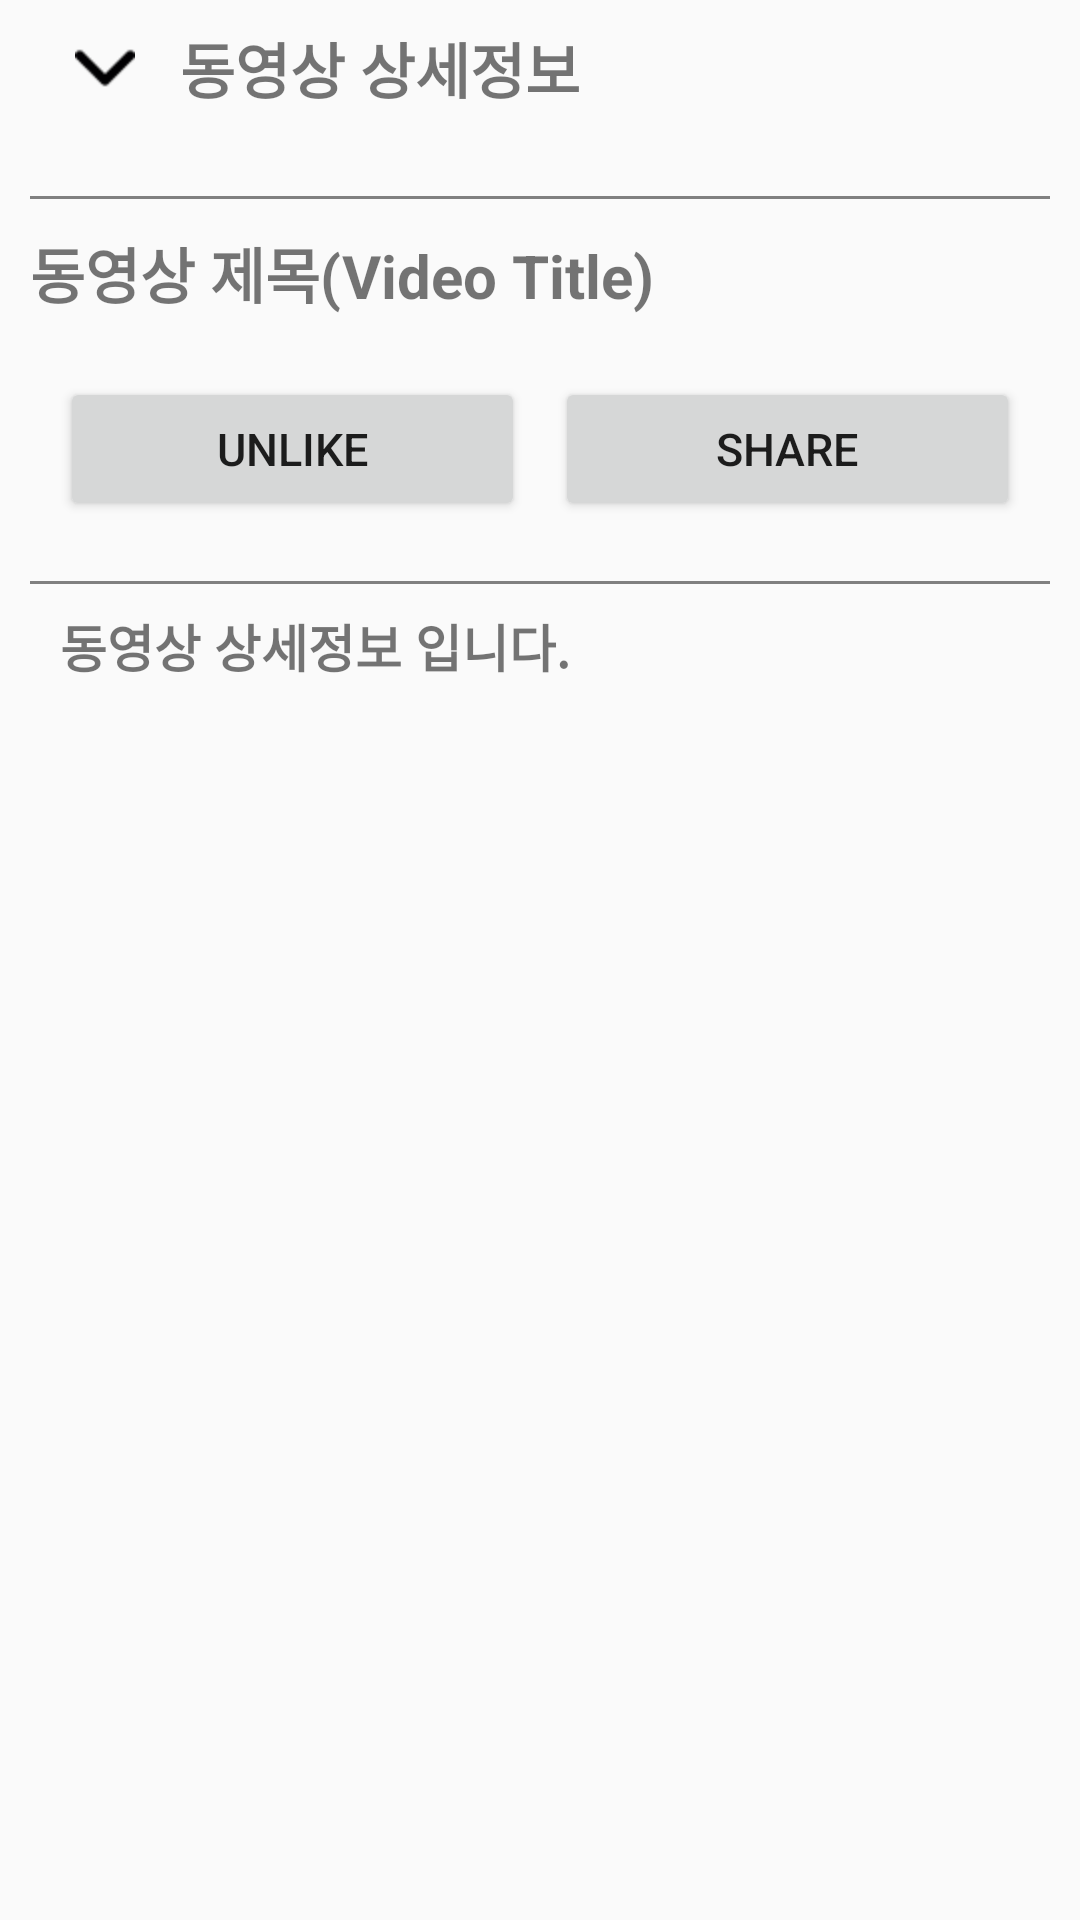

Where to tap for icons on this 1080px x 1920px app screen, as point (x, y):
downarrow: point (105, 68)
